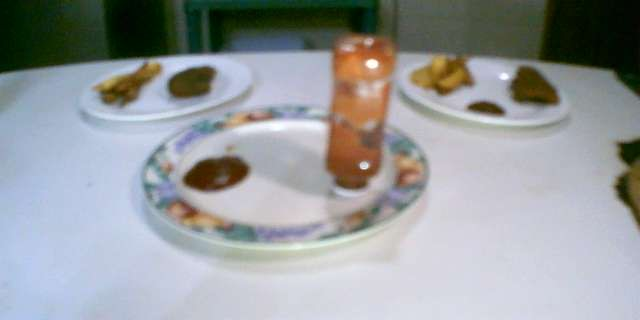chicken: (508, 58, 565, 106), (165, 61, 219, 100)
ketchup_bottle: (319, 27, 399, 201)
ketchup_portion: (182, 148, 252, 194), (462, 93, 509, 120)
potatoe_fries: (87, 54, 164, 111), (409, 47, 475, 99)
